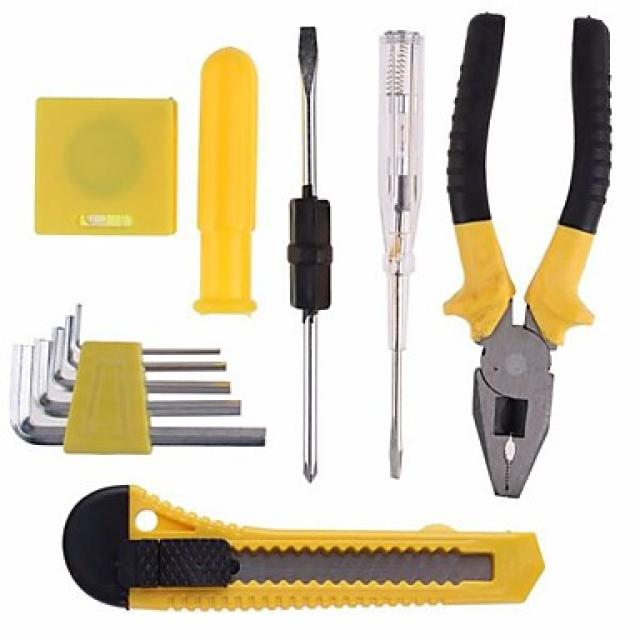Screwdriver: (379, 30, 424, 478), (288, 26, 332, 482), (194, 48, 258, 314)
